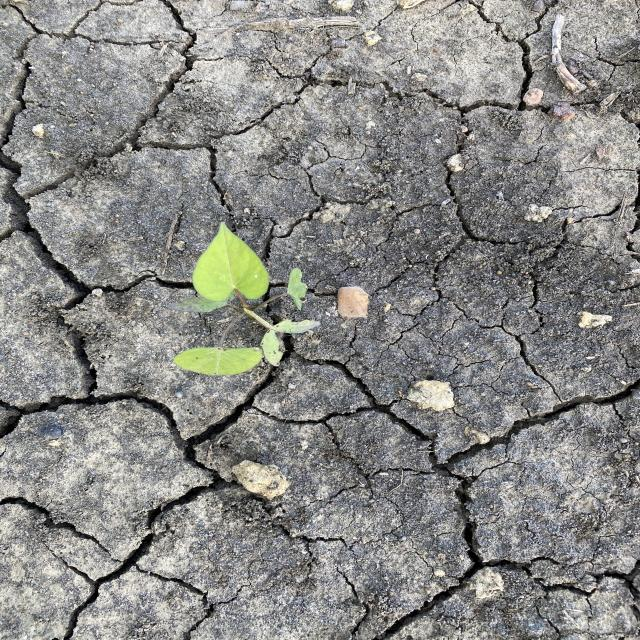MorningGlory: (162, 221, 323, 377)
